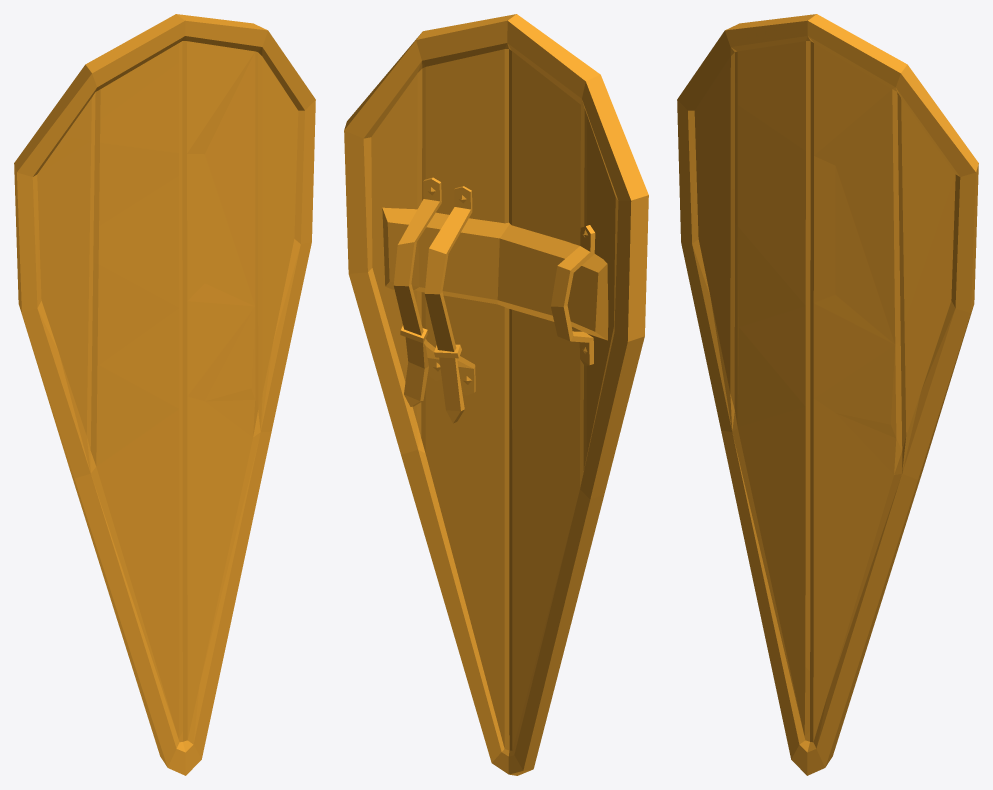
The model's file is SM_Shield_Kite_D.fbx.
The picture shows the model from 3 angles, left to right: view 1: azimuth 30°, elevation 25°; view 2: azimuth 150°, elevation 25°; view 3: azimuth 330°, elevation 25°; orthographic projection.
Visible parts, largest first — view 1: shield-kite-d; view 2: shield-kite-d; view 3: shield-kite-d.
Part boxes in pixels (bbox=[...]): shield-kite-d: bbox=[14, 14, 315, 775]; shield-kite-d: bbox=[344, 14, 648, 775]; shield-kite-d: bbox=[677, 14, 978, 775].
Size of the model in its own units: 0.6127 by 1.48 by 0.1703.
